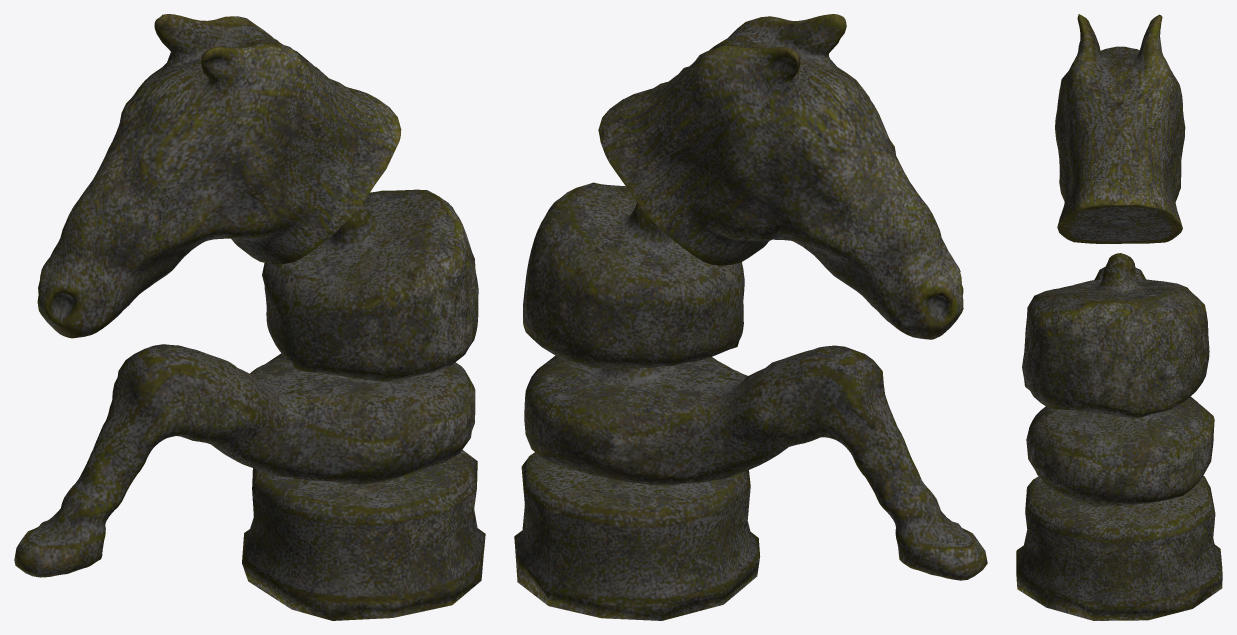
The model's file is horse_statue_puzzle.glb.
3 renders of one model, left to right at view 1: azimuth 30°, elevation 25°; view 2: azimuth 150°, elevation 25°; view 3: azimuth 270°, elevation 25°, orthographic. The views are drawn at different scales.
Parts seen in each view (by area): view 1: Retopo_2, Retopo_1, Retopo_3, Retopo_1.001; view 2: Retopo_2, Retopo_1, Retopo_1.001, Retopo_3; view 3: Retopo_2, Retopo_3, Retopo_1.001, Retopo_1.
Part boxes in pixels (x1,y1,x2,y2): Retopo_2: (37,14,401,338); Retopo_1: (14,344,475,577); Retopo_3: (262,189,478,381); Retopo_1.001: (242,450,485,620); Retopo_2: (598,14,963,339); Retopo_1: (524,345,987,580); Retopo_1.001: (514,452,760,620); Retopo_3: (523,182,744,368); Retopo_2: (1055,14,1185,243); Retopo_3: (1022,253,1209,418); Retopo_1.001: (1016,476,1222,620); Retopo_1: (1026,266,1214,506).
Size of the model in its own units: 0.0476 by 0.0586 by 0.0222.
1 material, 1 textured.
